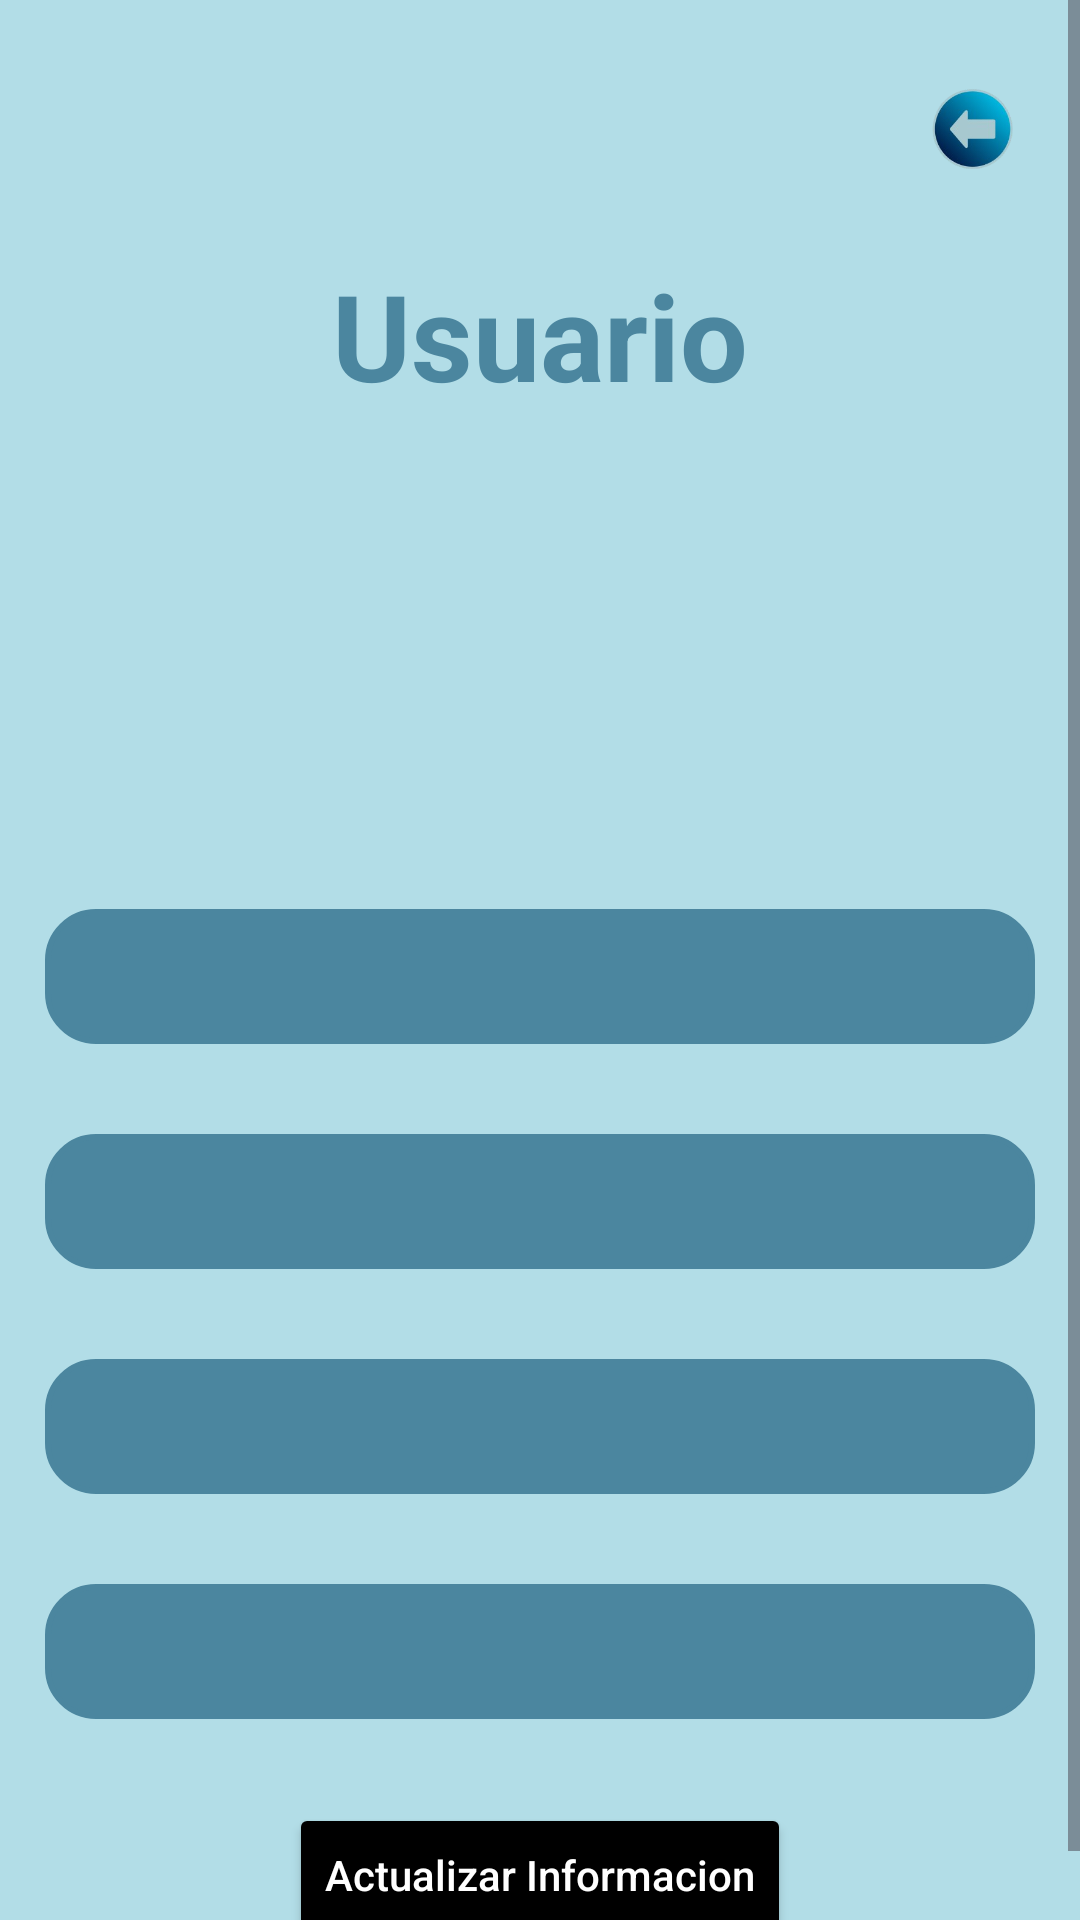

Named icons in this screenshot (1080 x 1920) and their centers, (x,y):
icono salida: (972,129)
